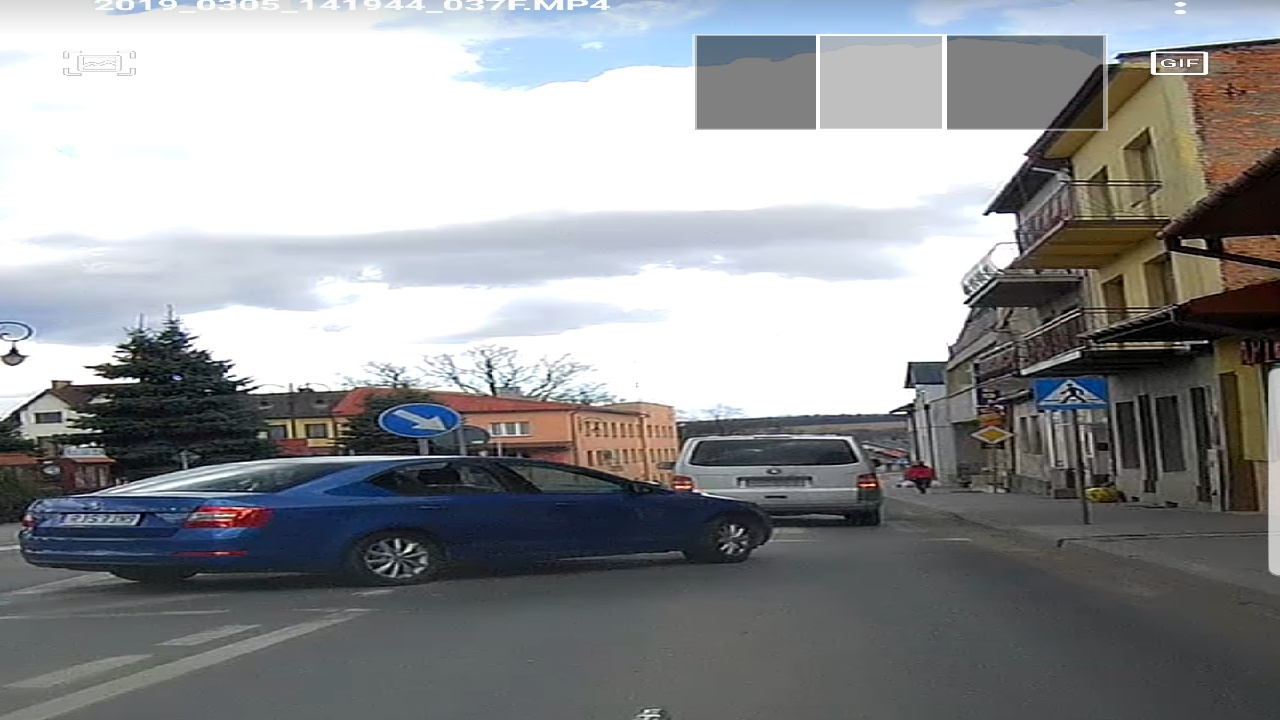C9: (378, 396, 463, 442)
D1: (967, 419, 1019, 448)
D6: (1029, 370, 1114, 410)
